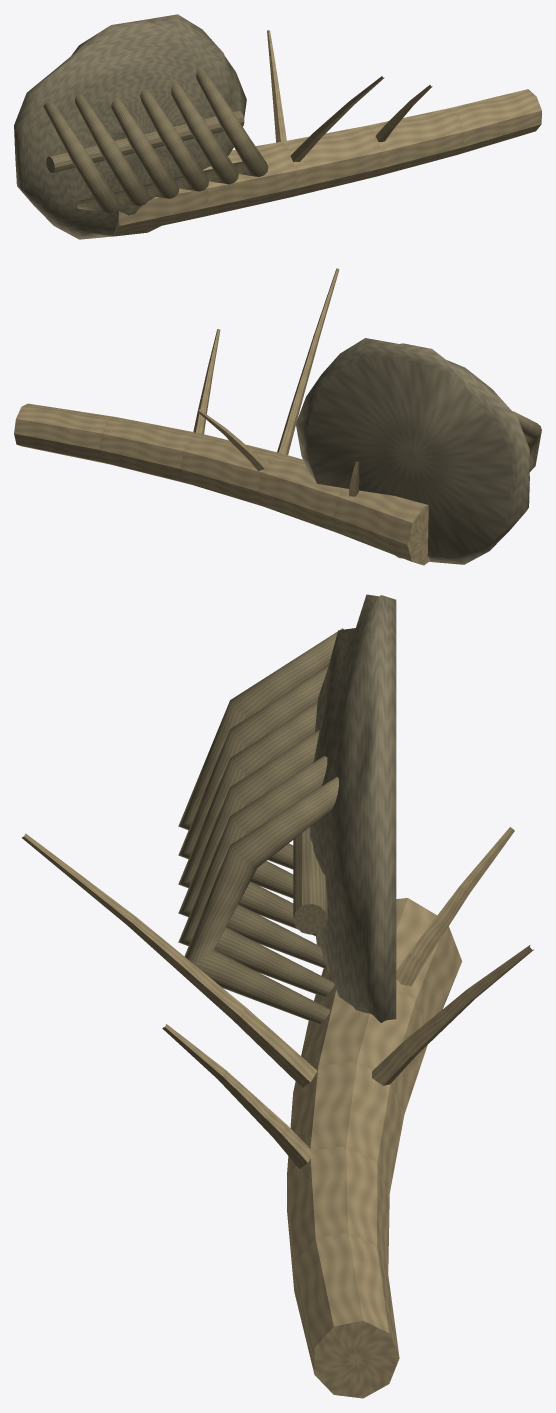
Rendered from fallen_giant_with_root_wall_swamp_and_mangrove_22658.glb.
3 renders of one model, top to bottom at view 1: azimuth 30°, elevation 25°; view 2: azimuth 150°, elevation 25°; view 3: azimuth 270°, elevation 25°, orthographic. The views are drawn at different scales.
Parts seen in each view (by area): view 1: upended-root-giant_1, upended-root-giant_0, upended-root-giant_2, upended-root-giant_3, upended-root-giant_7, upended-root-giant_6, upended-root-giant_5, upended-root-giant_4, upended-root-giant_8; view 2: upended-root-giant_1, upended-root-giant_0, upended-root-giant_2; view 3: upended-root-giant_0, upended-root-giant_1, upended-root-giant_7, upended-root-giant_6, upended-root-giant_5, upended-root-giant_4, upended-root-giant_3, upended-root-giant_2, upended-root-giant_8.
Boxes of the visible parts, bbox=[...] form: upended-root-giant_1: bbox=[14, 14, 246, 239]; upended-root-giant_0: bbox=[113, 30, 541, 235]; upended-root-giant_2: bbox=[43, 101, 119, 213]; upended-root-giant_3: bbox=[75, 94, 149, 205]; upended-root-giant_7: bbox=[196, 66, 268, 176]; upended-root-giant_6: bbox=[171, 79, 238, 184]; upended-root-giant_5: bbox=[140, 89, 208, 191]; upended-root-giant_4: bbox=[111, 98, 179, 198]; upended-root-giant_8: bbox=[46, 110, 244, 172]; upended-root-giant_1: bbox=[296, 338, 529, 564]; upended-root-giant_0: bbox=[14, 268, 430, 565]; upended-root-giant_2: bbox=[512, 411, 541, 472]; upended-root-giant_0: bbox=[22, 827, 533, 1398]; upended-root-giant_1: bbox=[310, 594, 396, 1022]; upended-root-giant_7: bbox=[184, 776, 338, 1023]; upended-root-giant_6: bbox=[178, 756, 334, 996]; upended-root-giant_5: bbox=[178, 730, 326, 969]; upended-root-giant_4: bbox=[178, 702, 317, 935]; upended-root-giant_3: bbox=[178, 667, 327, 898]; upended-root-giant_2: bbox=[178, 628, 343, 869]; upended-root-giant_8: bbox=[293, 827, 327, 934].
Size of the model in its own units: 6.2 by 2.5 by 2.69.
Materials: 3 (3 with a texture image).
